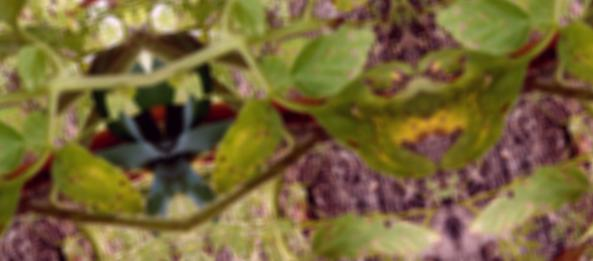Tomato Septoria leaf spot: (196, 94, 301, 194), (281, 16, 388, 109), (306, 195, 442, 261), (203, 246, 351, 261), (301, 0, 399, 16)
